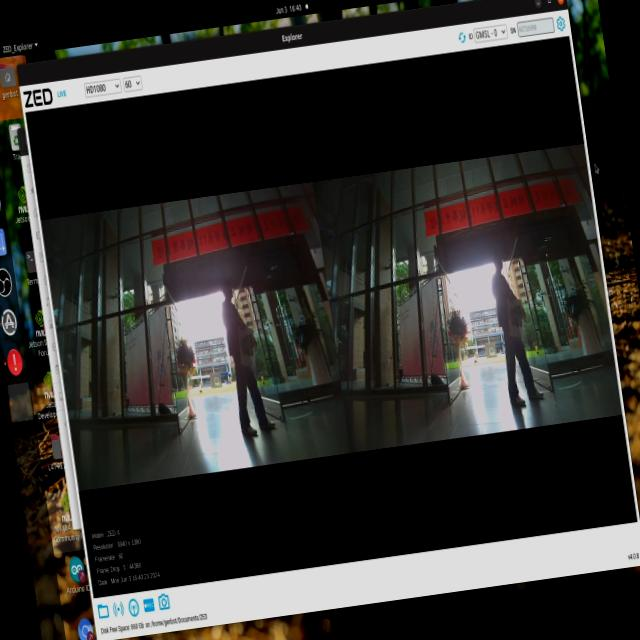green: (238, 326, 258, 371), (505, 300, 529, 332)
